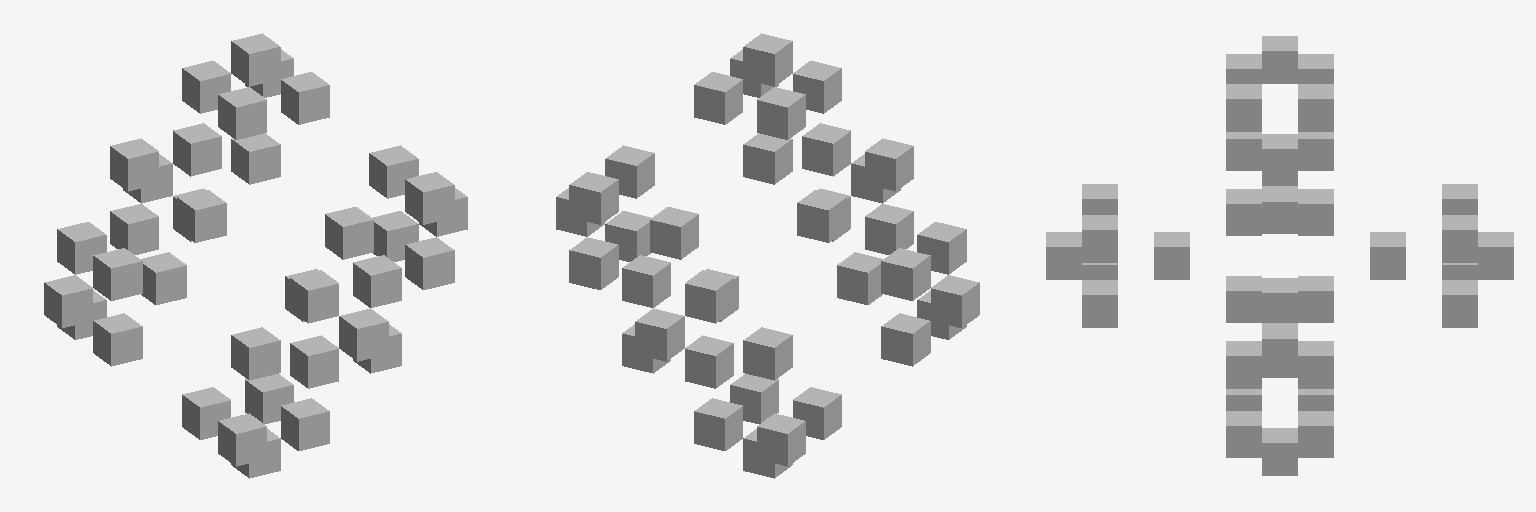
File: ProjectileDeath5.obj
3 views of the same model, side by side, from view 1: azimuth 30°, elevation 25°; view 2: azimuth 150°, elevation 25°; view 3: azimuth 270°, elevation 25° (orthographic).
Bounding box in the file's own units: 13 × 13 × 13.